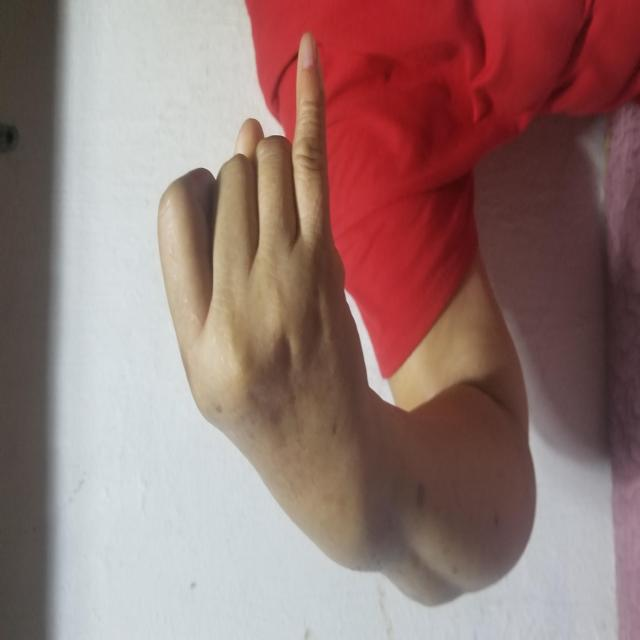J: (132, 9, 457, 582)
